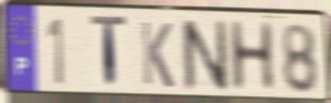1: (45, 17, 66, 89)
8: (280, 21, 320, 95)
H: (226, 19, 278, 94)
K: (139, 19, 176, 91)
N: (178, 18, 231, 94)
T: (89, 14, 129, 94)
